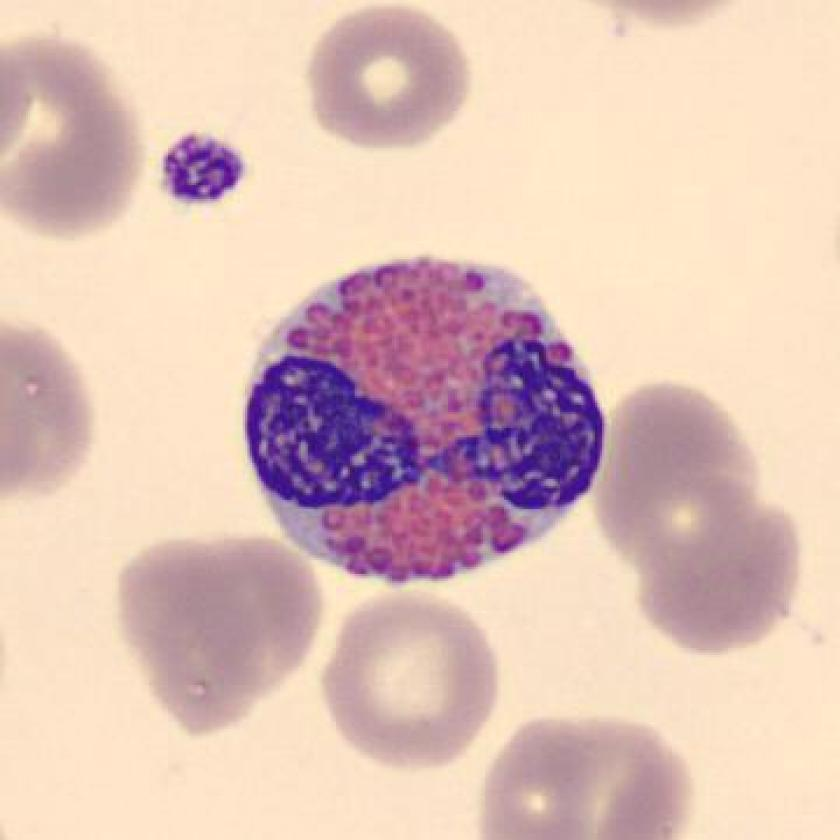eosinophil: (225, 242, 622, 603)
